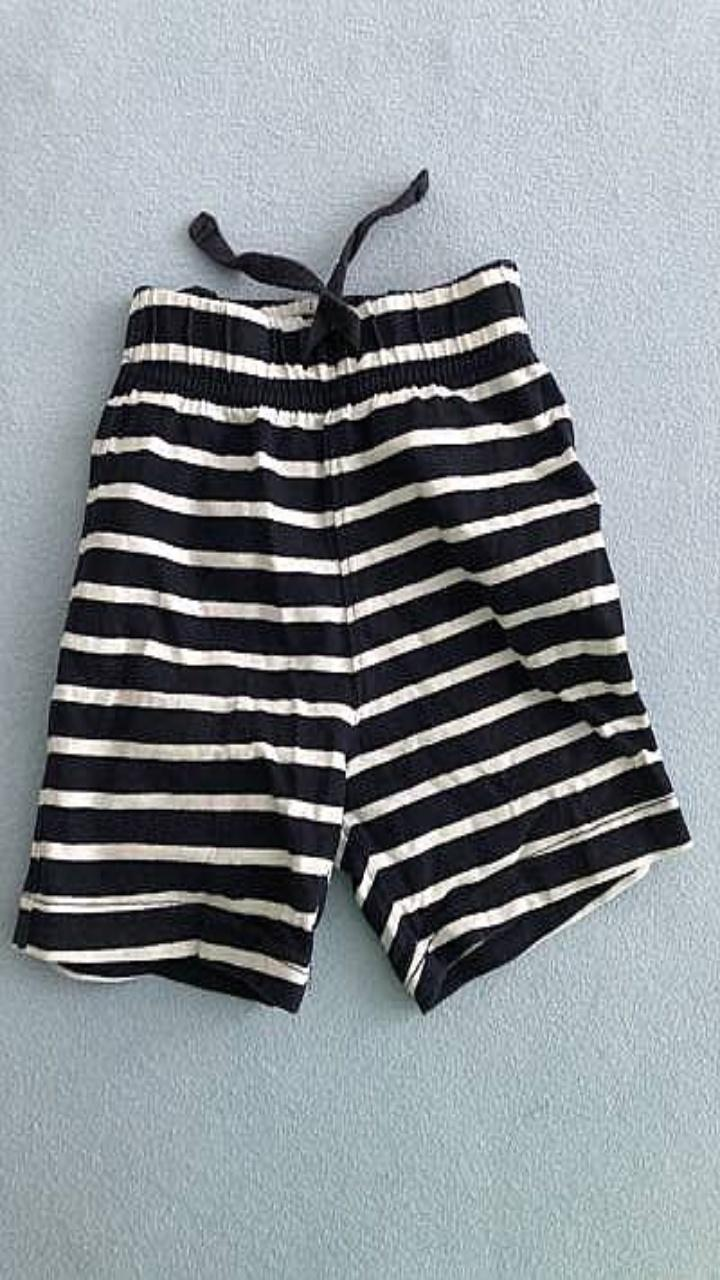Shorts: (13, 259, 691, 1011)
